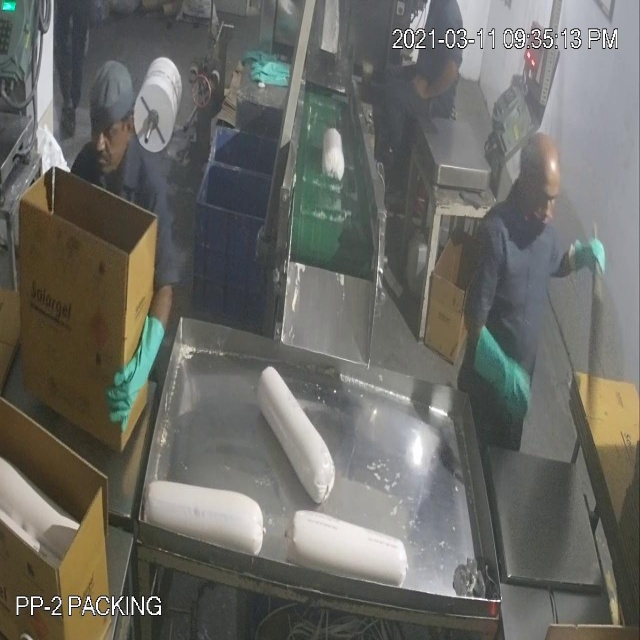Guantes: (94, 315, 169, 432), (471, 322, 535, 425), (561, 220, 612, 298)
Sin_guantes: (414, 48, 466, 115)
